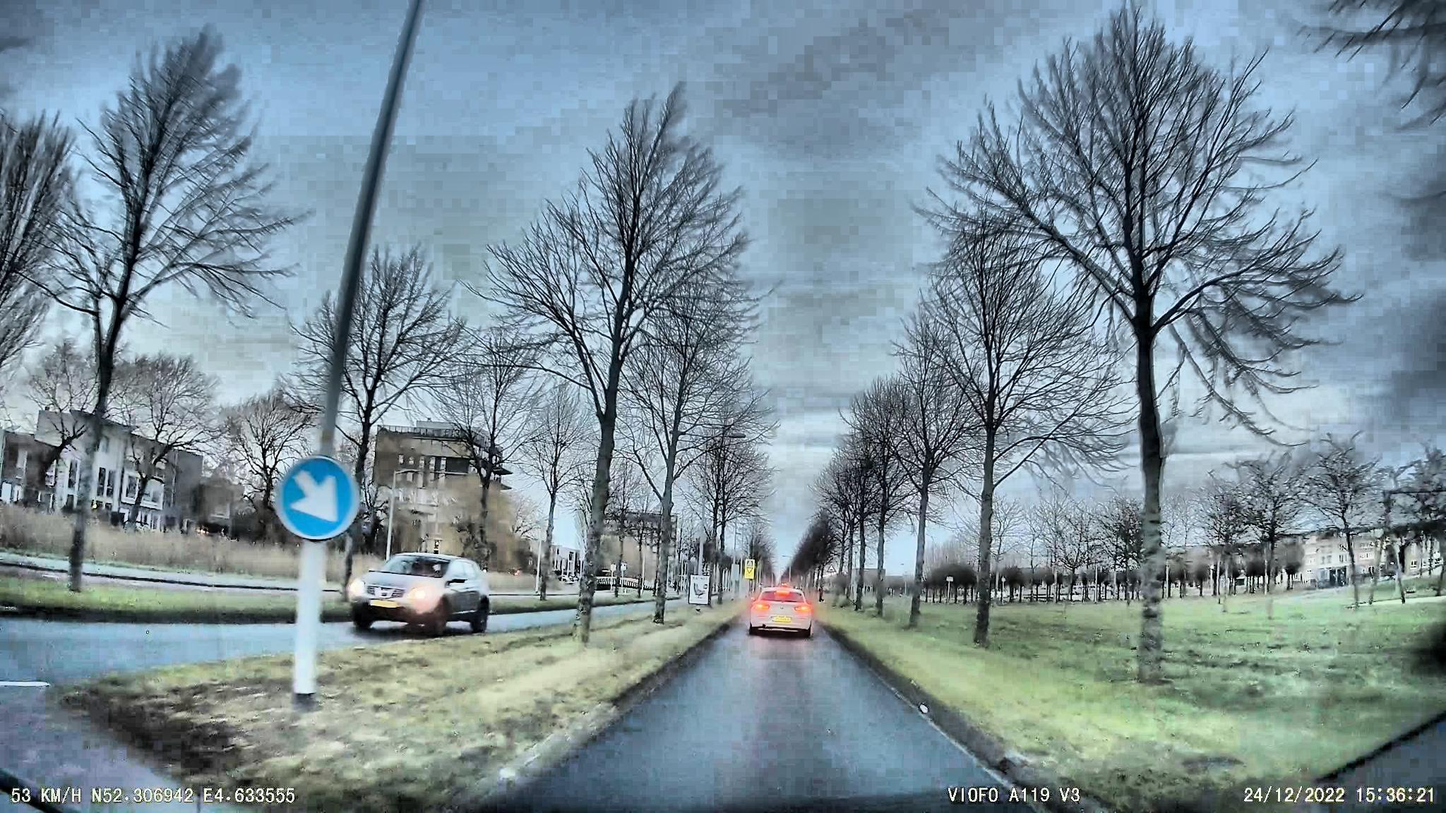Roads: (446, 619, 1112, 813)
